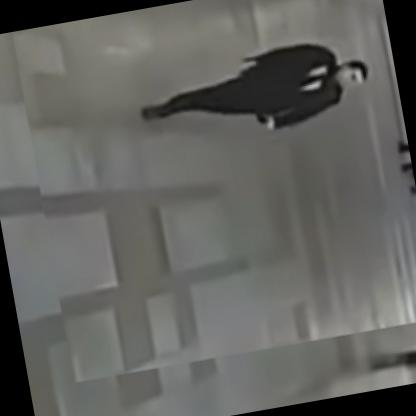Human Body: (128, 26, 381, 155)
